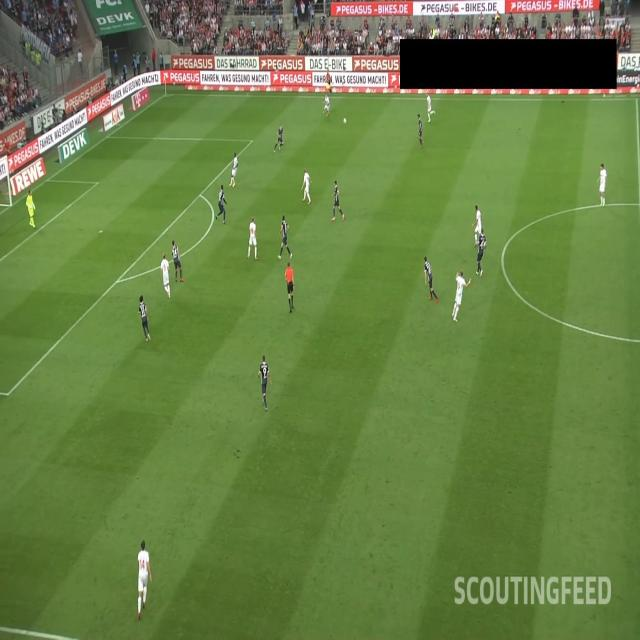ball: (342, 116, 347, 125)
